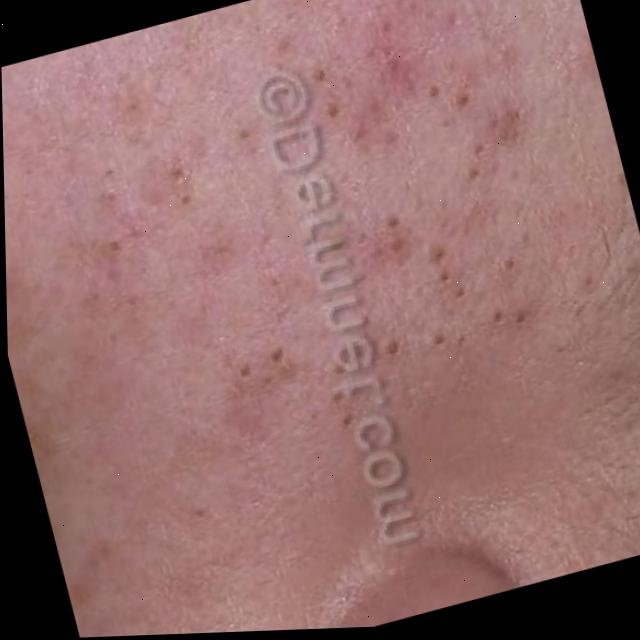Acne: (164, 0, 532, 270)
